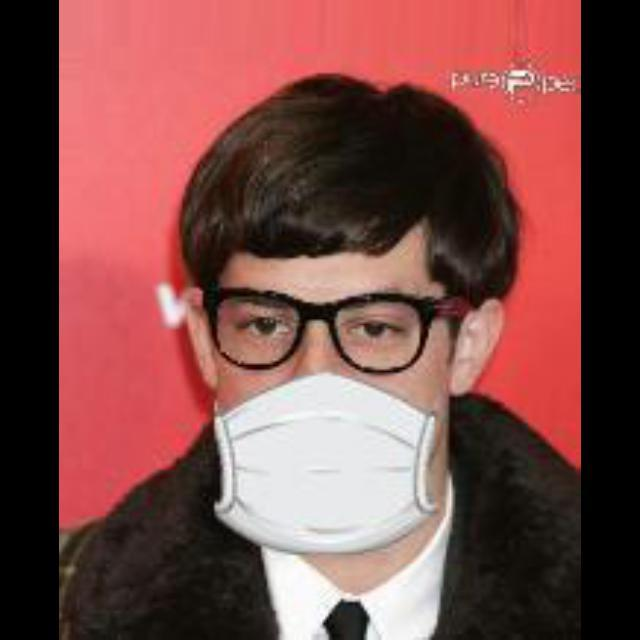suspicion: (190, 114, 538, 564)
